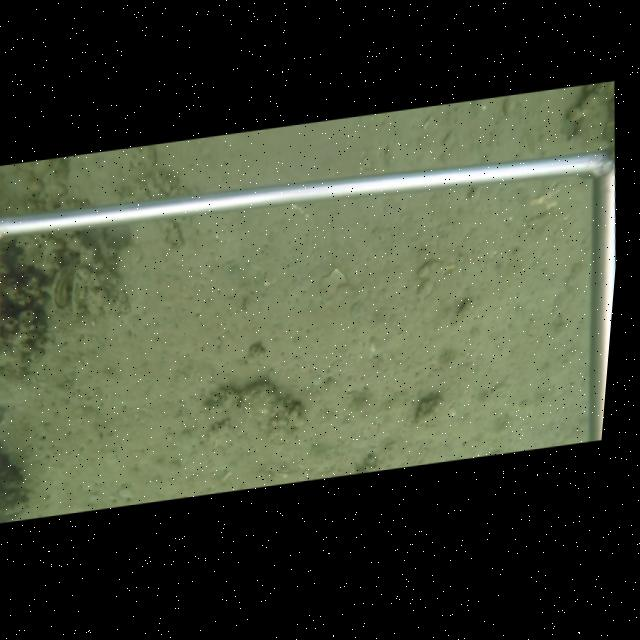Oyster-Closed: (50, 262, 71, 313)
